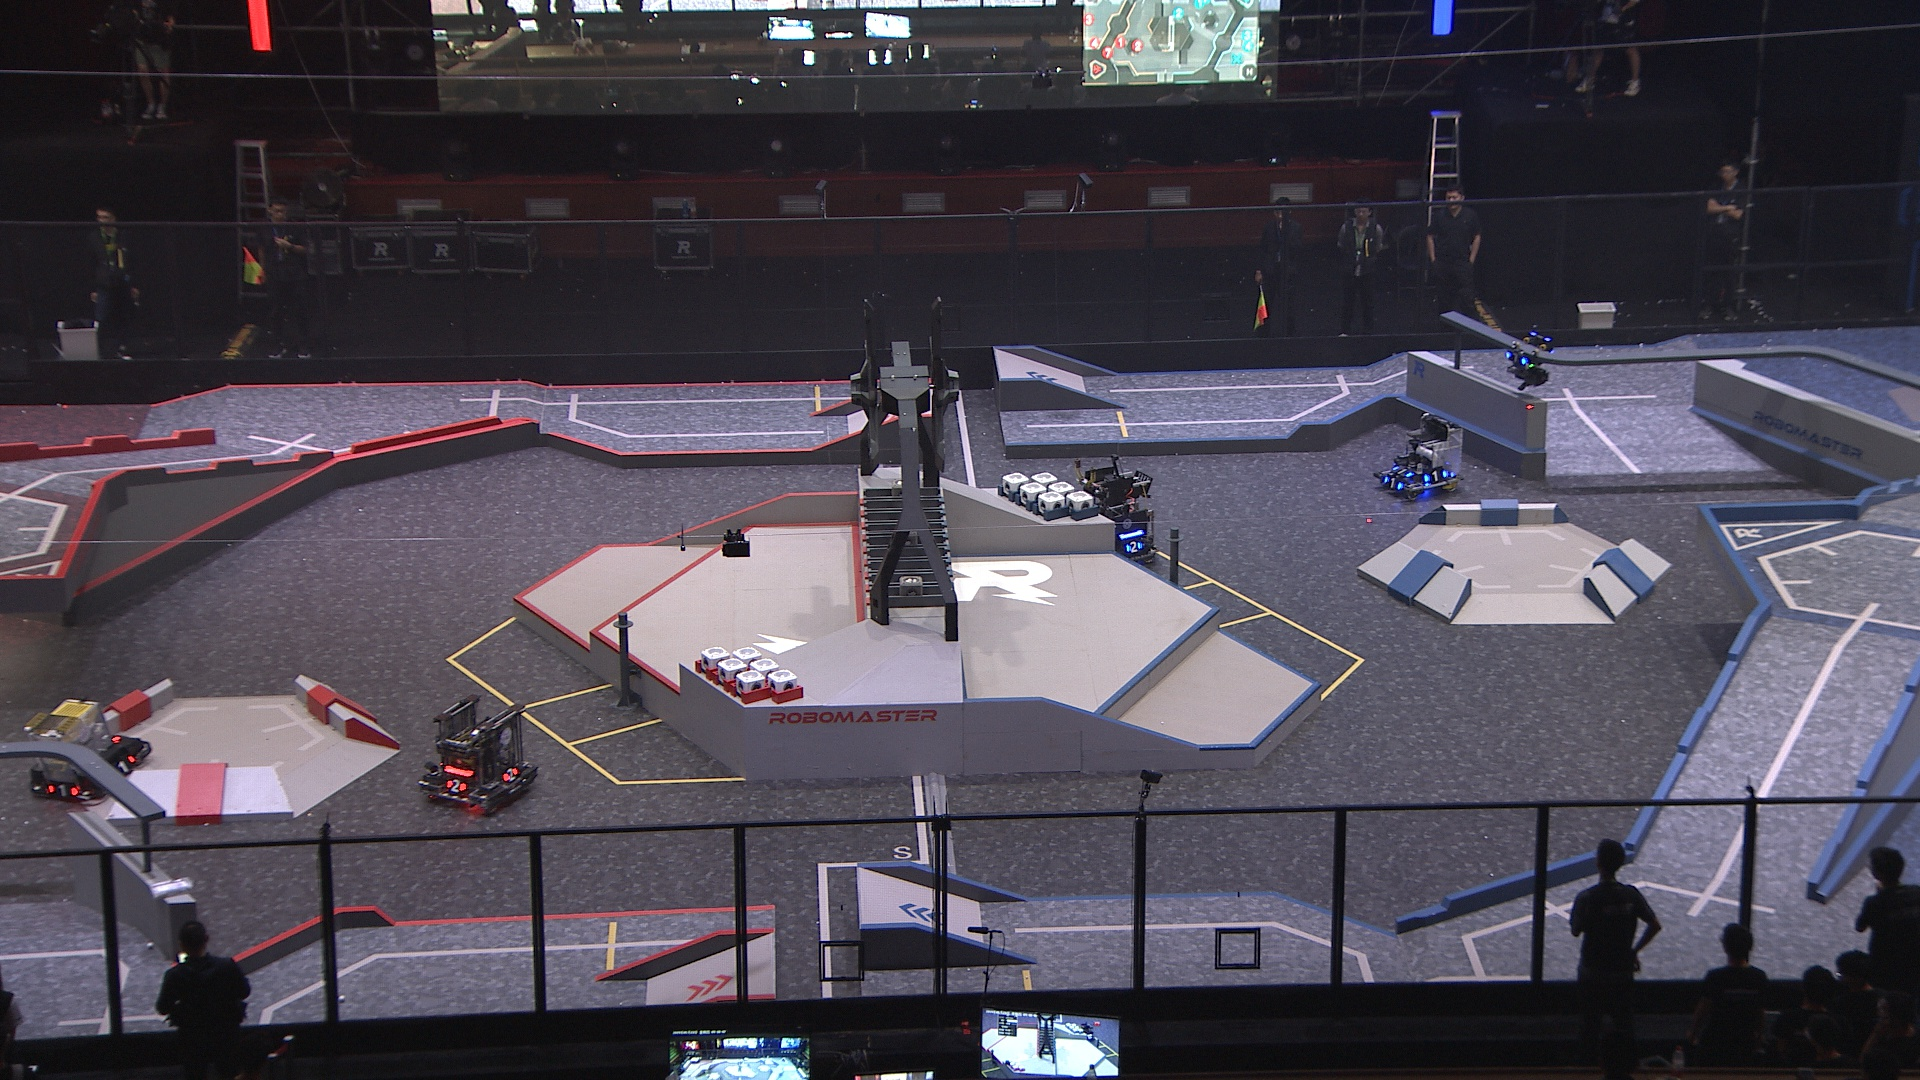armor: (47, 782, 79, 798), (116, 752, 136, 777), (1424, 467, 1447, 485), (1505, 349, 1528, 367), (442, 777, 467, 793), (501, 764, 520, 783), (1382, 473, 1403, 491), (1393, 463, 1414, 479), (1125, 541, 1145, 553)
car: (414, 694, 538, 816), (20, 700, 154, 803), (1076, 458, 1160, 567), (1371, 411, 1470, 504)
watcher: (1503, 328, 1553, 394)
